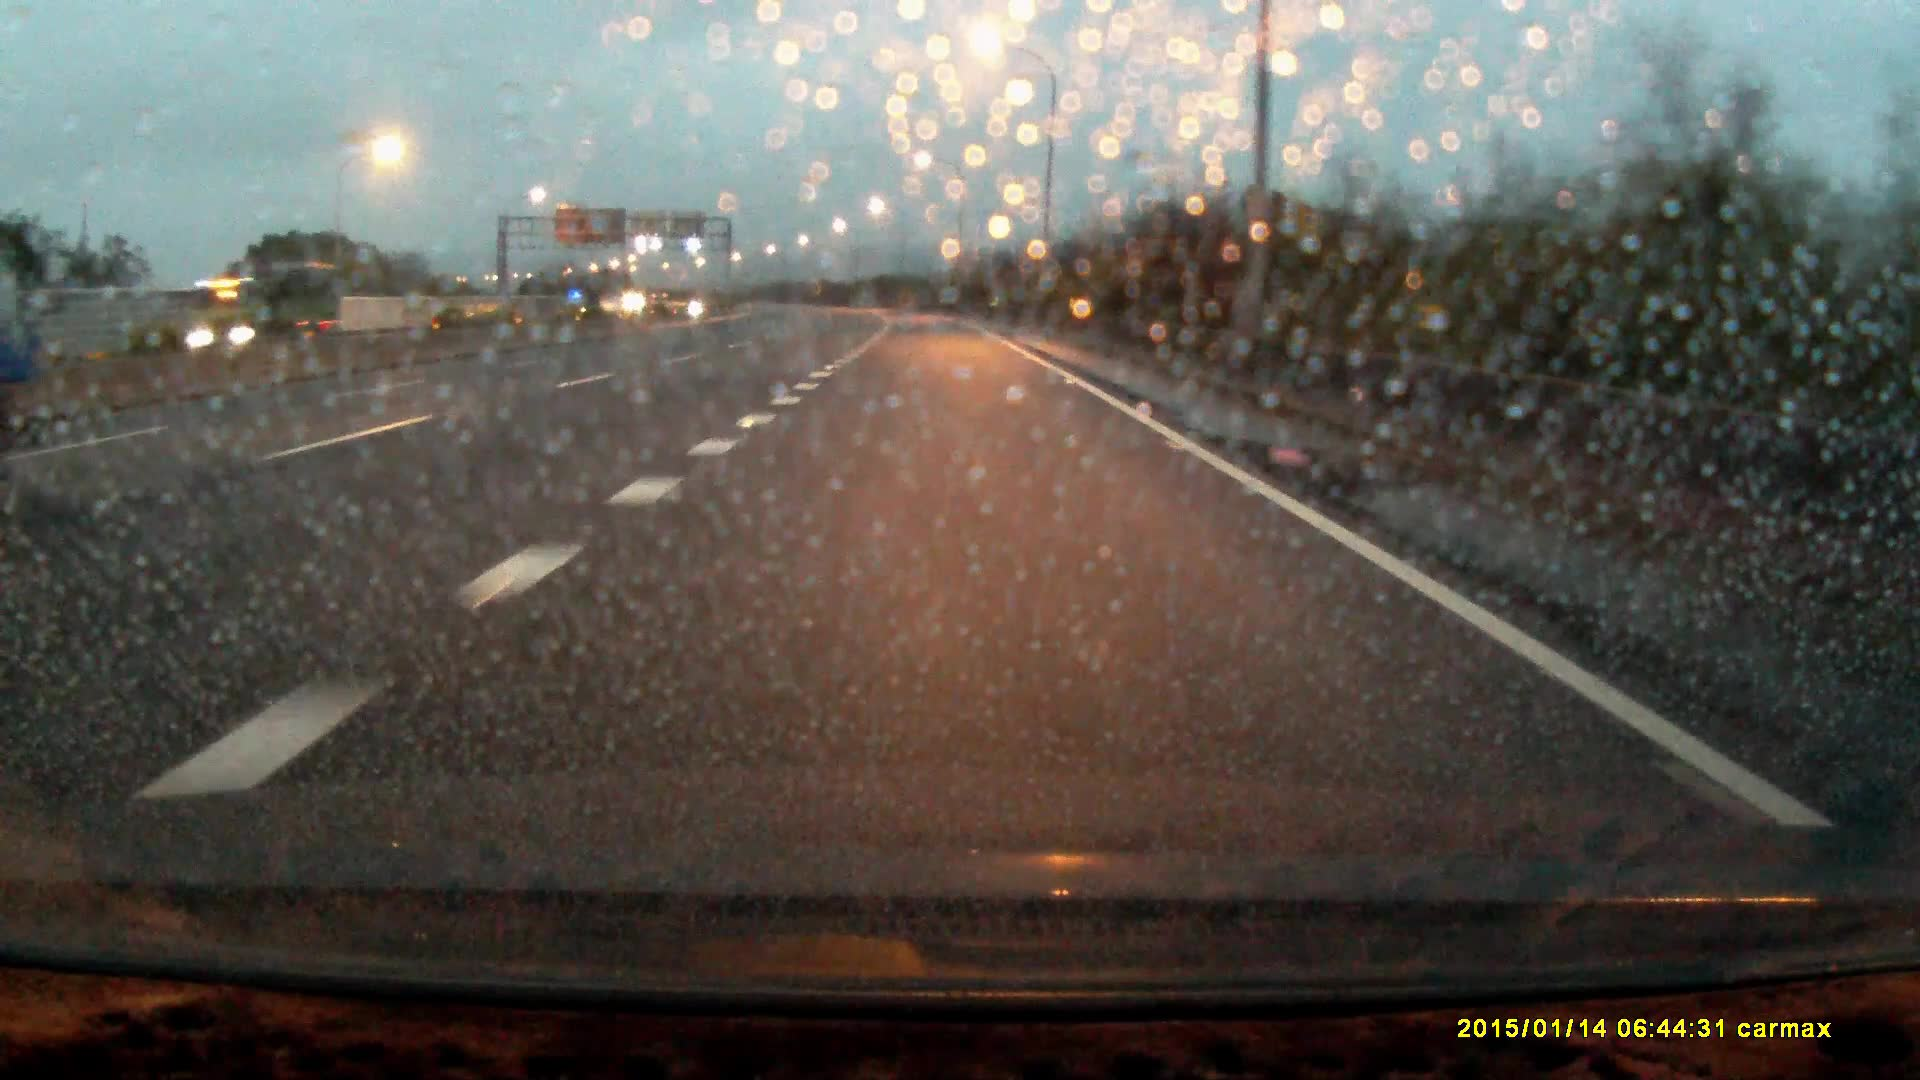vehicle: (199, 272, 342, 345)
